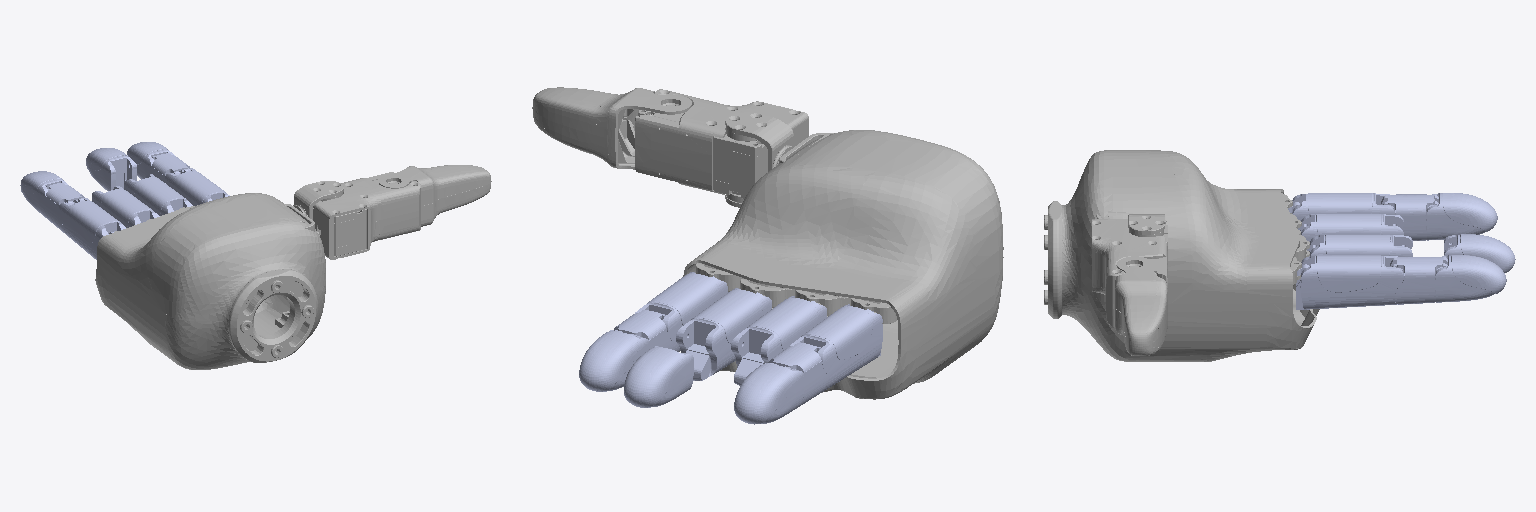
robot.urdf — Dex5-URDF-R:
<robot name="Dex5-URDF-R">
  <mujoco>
    <compiler meshdir="meshes" discardvisual="false"/>
  </mujoco>
  <link name="base_link00">
    <inertial>
      <origin xyz="-0.023027 0.027982 -0.017178" rpy="0 0 0"/>
      <mass value="0.685702"/>
      <inertia ixx="7.78969326E-04" ixy="-3.3932999E-05" ixz="-8.537493E-06" iyy="6.11017846E-04" iyz="5.5013726E-05" izz="1.061484896E-03"/>
    </inertial>
    <visual>
      <origin xyz="0 0 0" rpy="0 0 0"/>
      <geometry>
        <mesh filename="meshes/base_link00.STL"/>
      </geometry>
      <material name="">
        <color rgba="0.752941176470588 0.752941176470588 0.752941176470588 0.7"/>
      </material>
    </visual>
    <collision>
      <origin xyz="0 0 0" rpy="0 0 0"/>
      <geometry>
        <mesh filename="meshes/base_link00.STL"/>
      </geometry>
    </collision>
  </link>
  <link name="Link_11R">
    <inertial>
      <origin xyz="-0.008418 0.000123 -0.003247" rpy="0 0 0"/>
      <mass value="0.02363"/>
      <inertia ixx="2.641049E-06" ixy="1.9442E-08" ixz="1.8132E-07" iyy="3.607134E-06" iyz="5.837E-09" izz="3.860781E-06"/>
    </inertial>
    <visual>
      <origin xyz="0 0 0" rpy="0 0 0"/>
      <geometry>
        <mesh filename="meshes/Link_11R.STL"/>
      </geometry>
      <material name="">
        <color rgba="0.752941176470588 0.752941176470588 0.752941176470588 1"/>
      </material>
    </visual>
    <collision>
      <origin xyz="0 0 0" rpy="0 0 0"/>
      <geometry>
        <mesh filename="meshes/Link_11R.STL"/>
      </geometry>
    </collision>
  </link>
  <joint name="Yaw_11R" type="revolute">
    <origin xyz="0 0 0.0143500000000242" rpy="0 0 0"/>
    <parent link="base_link00"/>
    <child link="Link_11R"/>
    <axis xyz="0 0 1"/>
    <limit lower="-0.5867" upper="0.6803" effort="0.93" velocity="4.18"/>
  </joint>
  <link name="Link_12R">
    <inertial>
      <origin xyz="0.014668 0.000013 -0.004099" rpy="0 0 0"/>
      <mass value="0.015809"/>
      <inertia ixx="3.066476E-06" ixy="-4.497E-9" ixz="2.22721E-7" iyy="4.049699E-06" iyz="1.404E-9" izz="3.627081E-06"/>
    </inertial>
    <visual>
      <origin xyz="0 0 0" rpy="0 0 0"/>
      <geometry>
        <mesh filename="meshes/Link_12R.STL"/>
      </geometry>
      <material name="">
        <color rgba="0.752941176470588 0.752941176470588 0.752941176470588 1"/>
      </material>
    </visual>
    <collision>
      <origin xyz="0 0 0" rpy="0 0 0"/>
      <geometry>
        <mesh filename="meshes/Link_12R.STL"/>
      </geometry>
    </collision>
  </link>
  <joint name="Roll_12R" type="revolute">
    <origin xyz="-1.06041019916053E-05 0 0" rpy="1.5707963267949 0 0"/>
    <parent link="Link_11R"/>
    <child link="Link_12R"/>
    <axis xyz="0 0 1"/>
    <limit lower="0" upper="1.8151" effort="0.93" velocity="4.18"/>
  </joint>
  <link name="Link_13R">
    <inertial>
      <origin xyz="0.018557 -0.006933 0.000159" rpy="0 0 0"/>
      <mass value="0.06674"/>
      <inertia ixx="9.105565E-06" ixy="-1.948696E-06" ixz="2.9291E-08" iyy="2.2925394E-05" iyz="-0.816E-09" izz="2.3878954E-05"/>
    </inertial>
    <visual>
      <origin xyz="0 0 0" rpy="0 0 0"/>
      <geometry>
        <mesh filename="meshes/Link_13R.STL"/>
      </geometry>
      <material name="">
        <color rgba="0.752941176470588 0.752941176470588 0.752941176470588 1"/>
      </material>
    </visual>
    <collision>
      <origin xyz="0 0 0" rpy="0 0 0"/>
      <geometry>
        <mesh filename="meshes/Link_13R.STL"/>
      </geometry>
    </collision>
  </link>
  <joint name="Pitch_13R" type="revolute">
    <origin xyz="0.0335000000000025 0 -0.00599999999999658" rpy="-1.57079632688918 -1.55083872381532E-05 0"/>
    <parent link="Link_12R"/>
    <child link="Link_13R"/>
    <axis xyz="0 0 1"/>
    <limit lower="0" upper="1.765226" effort="0.93" velocity="4.18"/>
  </joint>
  <link name="Link_14R">
    <inertial>
      <origin xyz="0.028085 0.003322 0.000472" rpy="0 0 0"/>
      <mass value="0.020073"/>
      <inertia ixx="1.93782E-06" ixy="-1.69818E-07" ixz="1.24848E-07" iyy="6.083181E-06" iyz="2.0791E-08" izz="5.614839E-06"/>
    </inertial>
    <visual>
      <origin xyz="0 0 0" rpy="0 0 0"/>
      <geometry>
        <mesh filename="meshes/Link_14R.STL"/>
      </geometry>
      <material name="">
        <color rgba="0.752941176470588 0.752941176470588 0.752941176470588 1"/>
      </material>
    </visual>
    <collision>
      <origin xyz="0 0 0" rpy="0 0 0"/>
      <geometry>
        <mesh filename="meshes/Link_14R.STL"/>
      </geometry>
    </collision>
  </link>
  <joint name="Pitch_14R" type="revolute">
    <origin xyz="0.036609 -0.0053654 0" rpy="0 0 0"/>
    <parent link="Link_13R"/>
    <child link="Link_14R"/>
    <axis xyz="0 0 1"/>
    <limit lower="0" upper="1.6406" effort="0.93" velocity="4.18"/>
  </joint>
  <link name="Link_21R">
    <inertial>
      <origin xyz="0.007826 -0.000005 -0.004125" rpy="0 0 0"/>
      <mass value="0.004497"/>
      <inertia ixx="8.9889E-08" ixy="-4.9E-11" ixz="3.7079E-08" iyy="1.37514E-07" iyz="-1.18E-10" izz="9.6125E-08"/>
    </inertial>
    <visual>
      <origin xyz="0 0 0" rpy="0 0 0"/>
      <geometry>
        <mesh filename="meshes/Link_21R.STL"/>
      </geometry>
      <material name="">
        <color rgba="0.792156862745098 0.819607843137255 0.933333333333333 1"/>
      </material>
    </visual>
    <collision>
      <origin xyz="0 0 0" rpy="0 0 0"/>
      <geometry>
        <mesh filename="meshes/Link_21R.STL"/>
      </geometry>
    </collision>
  </link>
  <joint name="Roll_21R" type="revolute">
    <origin xyz="0.01 0.073143 -0.0034702" rpy="0 0 1.5708"/>
    <parent link="base_link00"/>
    <child link="Link_21R"/>
    <axis xyz="0 0 1"/>
    <limit lower="-0.38397" upper="0.38397" effort="0" velocity="0.76794"/>
  </joint>
  <link name="Link_22R">
    <inertial>
      <origin xyz="0.021242 -0.005936 0.000059" rpy="0 0 0"/>
      <mass value="0.017982"/>
      <inertia ixx="1.206794E-06" ixy="-1.30843E-07" ixz="-2.335E-09" iyy="4.081109E-06" iyz="1.219E-09" izz="4.370124E-06"/>
    </inertial>
    <visual>
      <origin xyz="0 0 0" rpy="0 0 0"/>
      <geometry>
        <mesh filename="meshes/Link_22R.STL"/>
      </geometry>
      <material name="">
        <color rgba="0.792156862745098 0.819607843137255 0.933333333333333 1"/>
      </material>
    </visual>
    <collision>
      <origin xyz="0 0 0" rpy="0 0 0"/>
      <geometry>
        <mesh filename="meshes/Link_22R.STL"/>
      </geometry>
    </collision>
  </link>
  <joint name="Pitch_22R" type="revolute">
    <origin xyz="0.00419999999999998 0 0" rpy="1.5707963267949 0 0"/>
    <parent link="Link_21R"/>
    <child link="Link_22R"/>
    <axis xyz="0 0 1"/>
    <limit lower="0" upper="1.5707963" effort="0" velocity="3.1415926"/>
  </joint>
  <link name="Link_23R">
    <inertial>
      <origin xyz="0.011393 -0.005777 0.000001" rpy="0 0 0"/>
      <mass value="0.012776"/>
      <inertia ixx="6.38115E-07" ixy="5.5121E-08" ixz="-4.97E-10" iyy="6.31505E-07" iyz="-1.43E-10" izz="8.2943E-07"/>
    </inertial>
    <visual>
      <origin xyz="0 0 0" rpy="0 0 0"/>
      <geometry>
        <mesh filename="meshes/Link_23R.STL"/>
      </geometry>
      <material name="">
        <color rgba="0.792156862745098 0.819607843137255 0.933333333333333 1"/>
      </material>
    </visual>
    <collision>
      <origin xyz="0 0 0" rpy="0 0 0"/>
      <geometry>
        <mesh filename="meshes/Link_23R.STL"/>
      </geometry>
    </collision>
  </link>
  <joint name="Pitch_23R" type="revolute">
    <origin xyz="0.039999999999998 0 0" rpy="0 0 0"/>
    <parent link="Link_22R"/>
    <child link="Link_23R"/>
    <axis xyz="0 0 1"/>
    <limit lower="0" upper="1.684242699" effort="0" velocity="3.368485398"/>
  </joint>
  <link name="Link_24R">
    <inertial>
      <origin xyz="0.009354 -0.004824 0.000072" rpy="0 0 0"/>
      <mass value="0.00639891165893413"/>
      <inertia ixx="4.9531E-07" ixy="-1.09285E-07" ixz="8.84E-10" iyy="1.466772E-06" iyz="4.47E-10" izz="1.448234E-06"/>
    </inertial>
    <visual>
      <origin xyz="0 0 0" rpy="0 0 0"/>
      <geometry>
        <mesh filename="meshes/Link_24R.STL"/>
      </geometry>
      <material name="">
        <color rgba="0.792156862745098 0.819607843137255 0.933333333333333 1"/>
      </material>
    </visual>
    <collision>
      <origin xyz="0 0 0" rpy="0 0 0"/>
      <geometry>
        <mesh filename="meshes/Link_24R.STL"/>
      </geometry>
    </collision>
  </link>
  <joint name="Pitch_24R" type="revolute">
    <origin xyz="0.0209845918681 0.000804303505750905 0" rpy="0 0 0"/>
    <parent link="Link_23R"/>
    <child link="Link_24R"/>
    <axis xyz="0 0 1"/>
    <limit lower="0" upper="1.396263378" effort="0" velocity="2.792526756"/>
  </joint>
  <link name="Link_31R">
    <inertial>
      <origin xyz="0.007826 -0.000005 -0.004125" rpy="0 0 0"/>
      <mass value="0.004497"/>
      <inertia ixx="8.9889E-08" ixy="-4.9E-11" ixz="3.7079E-08" iyy="1.37514E-07" iyz="-1.18E-10" izz="9.6125E-08"/>
    </inertial>
    <visual>
      <origin xyz="0 0 0" rpy="0 0 0"/>
      <geometry>
        <mesh filename="meshes/Link_31R.STL"/>
      </geometry>
      <material name="">
        <color rgba="0.792156862745098 0.819607843137255 0.933333333333333 1"/>
      </material>
    </visual>
    <collision>
      <origin xyz="0 0 0" rpy="0 0 0"/>
      <geometry>
        <mesh filename="meshes/Link_31R.STL"/>
      </geometry>
    </collision>
  </link>
  <joint name="Roll_31R" type="revolute">
    <origin xyz="-0.012 0.077143 -0.0034702" rpy="0 0 1.5708"/>
    <parent link="base_link00"/>
    <child link="Link_31R"/>
    <axis xyz="0 0 1"/>
    <limit lower="-0.38397" upper="0.38397" effort="0" velocity="0.76794"/>
  </joint>
  <link name="Link_32R">
    <inertial>
      <origin xyz="0.021242 -0.005936 0.000059" rpy="0 0 0"/>
      <mass value="0.017982"/>
      <inertia ixx="1.206794E-06" ixy="-1.30843E-07" ixz="-2.335E-09" iyy="4.081109E-06" iyz="1.219E-09" izz="4.370124E-06"/>
    </inertial>
    <visual>
      <origin xyz="0 0 0" rpy="0 0 0"/>
      <geometry>
        <mesh filename="meshes/Link_32R.STL"/>
      </geometry>
      <material name="">
        <color rgba="0.792156862745098 0.819607843137255 0.933333333333333 1"/>
      </material>
    </visual>
    <collision>
      <origin xyz="0 0 0" rpy="0 0 0"/>
      <geometry>
        <mesh filename="meshes/Link_32R.STL"/>
      </geometry>
    </collision>
  </link>
  <joint name="Pitch_32R" type="revolute">
    <origin xyz="0.00419999999999998 0 0" rpy="1.5707963267949 0 0"/>
    <parent link="Link_31R"/>
    <child link="Link_32R"/>
    <axis xyz="0 0 1"/>
    <limit lower="0" upper="1.5707963" effort="0" velocity="3.1415926"/>
  </joint>
  <link name="Link_33R">
    <inertial>
      <origin xyz="0.011393 -0.005777 0.000001" rpy="0 0 0"/>
      <mass value="0.012776"/>
      <inertia ixx="6.38115E-07" ixy="5.5121E-08" ixz="-4.97E-10" iyy="6.31505E-07" iyz="-1.43E-10" izz="8.2943E-07"/>
    </inertial>
    <visual>
      <origin xyz="0 0 0" rpy="0 0 0"/>
      <geometry>
        <mesh filename="meshes/Link_33R.STL"/>
      </geometry>
      <material name="">
        <color rgba="0.792156862745098 0.819607843137255 0.933333333333333 1"/>
      </material>
    </visual>
    <collision>
      <origin xyz="0 0 0" rpy="0 0 0"/>
      <geometry>
        <mesh filename="meshes/Link_33R.STL"/>
      </geometry>
    </collision>
  </link>
  <joint name="Pitch_33R" type="revolute">
    <origin xyz="0.039999999999998 0 0" rpy="0 0 0"/>
    <parent link="Link_32R"/>
    <child link="Link_33R"/>
    <axis xyz="0 0 1"/>
    <limit lower="0" upper="1.684242699" effort="0" velocity="3.368485398"/>
  </joint>
  <link name="Link_34R">
    <inertial>
      <origin xyz="0.009354 -0.004824 0.000072" rpy="0 0 0"/>
      <mass value="0.00639891165893413"/>
      <inertia ixx="4.9531E-07" ixy="-1.09285E-07" ixz="8.84E-10" iyy="1.466772E-06" iyz="4.47E-10" izz="1.448234E-06"/>
    </inertial>
    <visual>
      <origin xyz="0 0 0" rpy="0 0 0"/>
      <geometry>
        <mesh filename="meshes/Link_34R.STL"/>
      </geometry>
      <material name="">
        <color rgba="0.792156862745098 0.819607843137255 0.933333333333333 1"/>
      </material>
    </visual>
    <collision>
      <origin xyz="0 0 0" rpy="0 0 0"/>
      <geometry>
        <mesh filename="meshes/Link_34R.STL"/>
      </geometry>
    </collision>
  </link>
  <joint name="Pitch_34R" type="revolute">
    <origin xyz="0.0209845918681 0.000804303505750906 0" rpy="0 0 0"/>
    <parent link="Link_33R"/>
    <child link="Link_34R"/>
    <axis xyz="0 0 1"/>
    <limit lower="0" upper="1.396263378" effort="0" velocity="2.792526756"/>
  </joint>
  <link name="Link_41R">
    <inertial>
      <origin xyz="0.007826 -0.000005 -0.004125" rpy="0 0 0"/>
      <mass value="0.004497"/>
      <inertia ixx="8.9889E-08" ixy="-4.9E-11" ixz="3.7079E-08" iyy="1.37514E-07" iyz="-1.18E-10" izz="9.6125E-08"/>
    </inertial>
    <visual>
      <origin xyz="0 0 0" rpy="0 0 0"/>
      <geometry>
        <mesh filename="meshes/Link_41R.STL"/>
      </geometry>
      <material name="">
        <color rgba="0.792156862745098 0.819607843137255 0.933333333333333 1"/>
      </material>
    </visual>
    <collision>
      <origin xyz="0 0 0" rpy="0 0 0"/>
      <geometry>
        <mesh filename="meshes/Link_41R.STL"/>
      </geometry>
    </collision>
  </link>
  <joint name="Roll_41R" type="revolute">
    <origin xyz="-0.034 0.073143 -0.0034702" rpy="0 0 1.5708"/>
    <parent link="base_link00"/>
    <child link="Link_41R"/>
    <axis xyz="0 0 1"/>
    <limit lower="-0.38397" upper="0.38397" effort="0" velocity="0"/>
  </joint>
  <link name="Link_42R">
    <inertial>
      <origin xyz="0.021242 -0.005936 0.000059" rpy="0 0 0"/>
      <mass value="0.017982"/>
      <inertia ixx="1.206794E-06" ixy="-1.30843E-07" ixz="-2.335E-09" iyy="4.081109E-06" iyz="1.219E-09" izz="4.370124E-06"/>
    </inertial>
    <visual>
      <origin xyz="0 0 0" rpy="0 0 0"/>
      <geometry>
        <mesh filename="meshes/Link_42R.STL"/>
      </geometry>
      <material name="">
        <color rgba="0.792156862745098 0.819607843137255 0.933333333333333 1"/>
      </material>
    </visual>
    <collision>
      <origin xyz="0 0 0" rpy="0 0 0"/>
      <geometry>
        <mesh filename="meshes/Link_42R.STL"/>
      </geometry>
    </collision>
  </link>
  <joint name="Pitch_42R" type="revolute">
    <origin xyz="0.00419999999999998 0 0" rpy="1.5707963267949 0 0"/>
    <parent link="Link_41R"/>
    <child link="Link_42R"/>
    <axis xyz="0 0 1"/>
    <limit lower="0" upper="1.5708" effort="0" velocity="3.1415926"/>
  </joint>
  <link name="Link_43R">
    <inertial>
      <origin xyz="0.011393 -0.005777 0.000001" rpy="0 0 0"/>
      <mass value="0.012776"/>
      <inertia ixx="6.38115E-07" ixy="5.5121E-08" ixz="-4.97E-10" iyy="6.31505E-07" iyz="-1.43E-10" izz="8.2943E-07"/>
    </inertial>
    <visual>
      <origin xyz="0 0 0" rpy="0 0 0"/>
      <geometry>
        <mesh filename="meshes/Link_43R.STL"/>
      </geometry>
      <material name="">
        <color rgba="0.792156862745098 0.819607843137255 0.933333333333333 1"/>
      </material>
    </visual>
    <collision>
      <origin xyz="0 0 0" rpy="0 0 0"/>
      <geometry>
        <mesh filename="meshes/Link_43R.STL"/>
      </geometry>
    </collision>
  </link>
  <joint name="Pitch_43R" type="revolute">
    <origin xyz="0.039999999999998 0 0" rpy="0 0 0"/>
    <parent link="Link_42R"/>
    <child link="Link_43R"/>
    <axis xyz="0 0 1"/>
    <limit lower="0" upper="1.6842" effort="0" velocity="3.368485398"/>
  </joint>
  <link name="Link_44R">
    <inertial>
      <origin xyz="0.009354 -0.004824 0.000072" rpy="0 0 0"/>
      <mass value="0.00639891165893413"/>
      <inertia ixx="4.9531E-07" ixy="-1.09285E-07" ixz="8.84E-10" iyy="1.466772E-06" iyz="4.47E-10" izz="1.448234E-06"/>
    </inertial>
    <visual>
      <origin xyz="0 0 0" rpy="0 0 0"/>
      <geometry>
        <mesh filename="meshes/Link_44R.STL"/>
      </geometry>
      <material name="">
        <color rgba="0.792156862745098 0.819607843137255 0.933333333333333 1"/>
      </material>
    </visual>
    <collision>
      <origin xyz="0 0 0" rpy="0 0 0"/>
      <geometry>
        <mesh filename="meshes/Link_44R.STL"/>
      </geometry>
    </collision>
  </link>
  <joint name="Pitch_44R" type="revolute">
    <origin xyz="0.0209845918681 0.000804303505750905 0" rpy="0 0 0"/>
    <parent link="Link_43R"/>
    <child link="Link_44R"/>
    <axis xyz="0 0 1"/>
    <limit lower="0" upper="1.3963" effort="0" velocity="2.7925"/>
  </joint>
  <link name="Link_51R">
    <inertial>
      <origin xyz="0.007826 -0.000005 -0.004125" rpy="0 0 0"/>
      <mass value="0.004497"/>
      <inertia ixx="8.9889E-08" ixy="-4.9E-11" ixz="3.7079E-08" iyy="1.37514E-07" iyz="-1.18E-10" izz="9.6125E-08"/>
    </inertial>
    <visual>
      <origin xyz="0 0 0" rpy="0 0 0"/>
      <geometry>
        <mesh filename="meshes/Link_51R.STL"/>
      </geometry>
      <material name="">
        <color rgba="0.792156862745098 0.819607843137255 0.933333333333333 1"/>
      </material>
    </visual>
    <collision>
      <origin xyz="0 0 0" rpy="0 0 0"/>
      <geometry>
        <mesh filename="meshes/Link_51R.STL"/>
      </geometry>
    </collision>
  </link>
  <joint name="Roll_51R" type="revolute">
    <origin xyz="-0.0559999999999967 0.0691433586578331 -0.00347021644327154" rpy="0 0 1.57079632679486"/>
    <parent link="base_link00"/>
    <child link="Link_51R"/>
    <axis xyz="0 0 1"/>
    <limit lower="-0.38397" upper="0.38397" effort="0" velocity="0"/>
  </joint>
  <link name="Link_52R">
    <inertial>
      <origin xyz="0.021242 -0.005936 0.000059" rpy="0 0 0"/>
      <mass value="0.017982"/>
      <inertia ixx="1.206794E-06" ixy="-1.30843E-07" ixz="-2.335E-09" iyy="4.081109E-06" iyz="1.219E-09" izz="4.370124E-06"/>
    </inertial>
    <visual>
      <origin xyz="0 0 0" rpy="0 0 0"/>
      <geometry>
        <mesh filename="meshes/Link_52R.STL"/>
      </geometry>
      <material name="">
        <color rgba="0.792156862745098 0.819607843137255 0.933333333333333 1"/>
      </material>
    </visual>
    <collision>
      <origin xyz="0 0 0" rpy="0 0 0"/>
      <geometry>
        <mesh filename="meshes/Link_52R.STL"/>
      </geometry>
    </collision>
  </link>
  <joint name="Pitch_52R" type="revolute">
    <origin xyz="0.00419999999999998 0 0" rpy="1.5707963267949 0 0"/>
    <parent link="Link_51R"/>
    <child link="Link_52R"/>
    <axis xyz="0 0 1"/>
    <limit lower="0" upper="1.5708" effort="0" velocity="3.1416"/>
  </joint>
  <link name="Link_53R">
    <inertial>
      <origin xyz="0.011393 -0.005777 0.000001" rpy="0 0 0"/>
      <mass value="0.012776"/>
      <inertia ixx="6.38115E-07" ixy="5.5121E-08" ixz="-4.97E-10" iyy="6.31505E-07" iyz="-1.43E-10" izz="8.2943E-07"/>
    </inertial>
    <visual>
      <origin xyz="0 0 0" rpy="0 0 0"/>
      <geometry>
        <mesh filename="meshes/Link_53R.STL"/>
      </geometry>
      <material name="">
        <color rgba="0.792156862745098 0.819607843137255 0.933333333333333 1"/>
      </material>
    </visual>
    <collision>
      <origin xyz="0 0 0" rpy="0 0 0"/>
      <geometry>
        <mesh filename="meshes/Link_53R.STL"/>
      </geometry>
    </collision>
  </link>
  <joint name="Pitch_53R" type="revolute">
    <origin xyz="0.039999999999998 0 0" rpy="0 0 0"/>
    <parent link="Link_52R"/>
    <child link="Link_53R"/>
    <axis xyz="0 0 1"/>
    <limit lower="0" upper="1.6842" effort="0" velocity="3.3685"/>
  </joint>
  <link name="Link_54R">
    <inertial>
      <origin xyz="0.009354 -0.004824 0.000072" rpy="0 0 0"/>
      <mass value="0.00639891165893413"/>
      <inertia ixx="4.9531E-07" ixy="-1.09285E-07" ixz="8.84E-10" iyy="1.466772E-06" iyz="4.47E-10" izz="1.448234E-06"/>
    </inertial>
    <visual>
      <origin xyz="0 0 0" rpy="0 0 0"/>
      <geometry>
        <mesh filename="meshes/Link_54R.STL"/>
      </geometry>
      <material name="">
        <color rgba="0.792156862745098 0.819607843137255 0.933333333333333 1"/>
      </material>
    </visual>
    <collision>
      <origin xyz="0 0 0" rpy="0 0 0"/>
      <geometry>
        <mesh filename="meshes/Link_54R.STL"/>
      </geometry>
    </collision>
  </link>
  <joint name="Pitch_54R" type="revolute">
    <origin xyz="0.0209845918681 0.000804303505750905 0" rpy="0 0 0"/>
    <parent link="Link_53R"/>
    <child link="Link_54R"/>
    <axis xyz="0 0 1"/>
    <limit lower="0" upper="1.3963" effort="0" velocity="2.7925"/>
  </joint>
</robot>

--- Render facts (derived) ---
3 views of the same robot in one strip: view 1: azimuth 30°, elevation 25°; view 2: azimuth 150°, elevation 25°; view 3: azimuth 270°, elevation 25° (orthographic).
Robot: Dex5-URDF-R — 21 links, 20 joints (20 revolute); root link base_link00; default pose: every joint at zero.
Visible links, largest first — view 1: base_link00, Link_13R, Link_14R, Link_52R, Link_34R, Link_32R, Link_42R, Link_22R, Link_12R, Link_54R, Link_53R, Link_24R (+1 smaller); view 2: base_link00, Link_13R, Link_14R, Link_32R, Link_52R, Link_42R, Link_34R, Link_54R, Link_24R, Link_22R, Link_12R, Link_53R (+1 smaller); view 3: base_link00, Link_22R, Link_14R, Link_13R, Link_24R, Link_54R, Link_42R, Link_32R, Link_52R, Link_23R, Link_34R, Link_53R (+1 smaller).
Link boxes in pixels (x1,y1,x2,y2): base_link00: (95, 193, 325, 369); Link_13R: (313, 172, 420, 259); Link_14R: (379, 165, 491, 226); Link_52R: (59, 198, 125, 259); Link_34R: (86, 148, 136, 190); Link_32R: (124, 174, 192, 215); Link_42R: (92, 186, 159, 227); Link_22R: (165, 168, 229, 205); Link_12R: (284, 181, 343, 231); Link_54R: (20, 171, 67, 217); Link_53R: (45, 182, 84, 232); Link_24R: (127, 142, 174, 179); base_link00: (683, 130, 1003, 399); Link_13R: (635, 89, 808, 202); Link_14R: (532, 87, 691, 169); Link_32R: (676, 288, 771, 380); Link_52R: (790, 304, 882, 391); Link_42R: (731, 296, 826, 385); Link_34R: (624, 346, 693, 407); Link_54R: (734, 363, 803, 424); Link_24R: (579, 330, 648, 391); Link_22R: (635, 272, 727, 351); Link_12R: (725, 112, 833, 207); Link_53R: (768, 342, 826, 404); base_link00: (1044, 150, 1319, 361); Link_22R: (1296, 255, 1403, 309); Link_14R: (1115, 256, 1167, 355); Link_13R: (1092, 219, 1167, 327); Link_24R: (1435, 255, 1506, 302); Link_54R: (1426, 193, 1497, 240); Link_42R: (1300, 214, 1403, 250); Link_32R: (1309, 234, 1412, 256); Link_52R: (1292, 193, 1394, 229); Link_23R: (1390, 257, 1447, 304); Link_34R: (1444, 234, 1515, 272); Link_53R: (1381, 194, 1438, 240).
Bounding box of the posed robot: 0.199 × 0.2111 × 0.0809 m (x, y, z).
Meshes: 21 distinct files referenced, 16 mesh visuals loaded (16 binary STL); not drawn: 5 (reference not matched to a file when rendering).